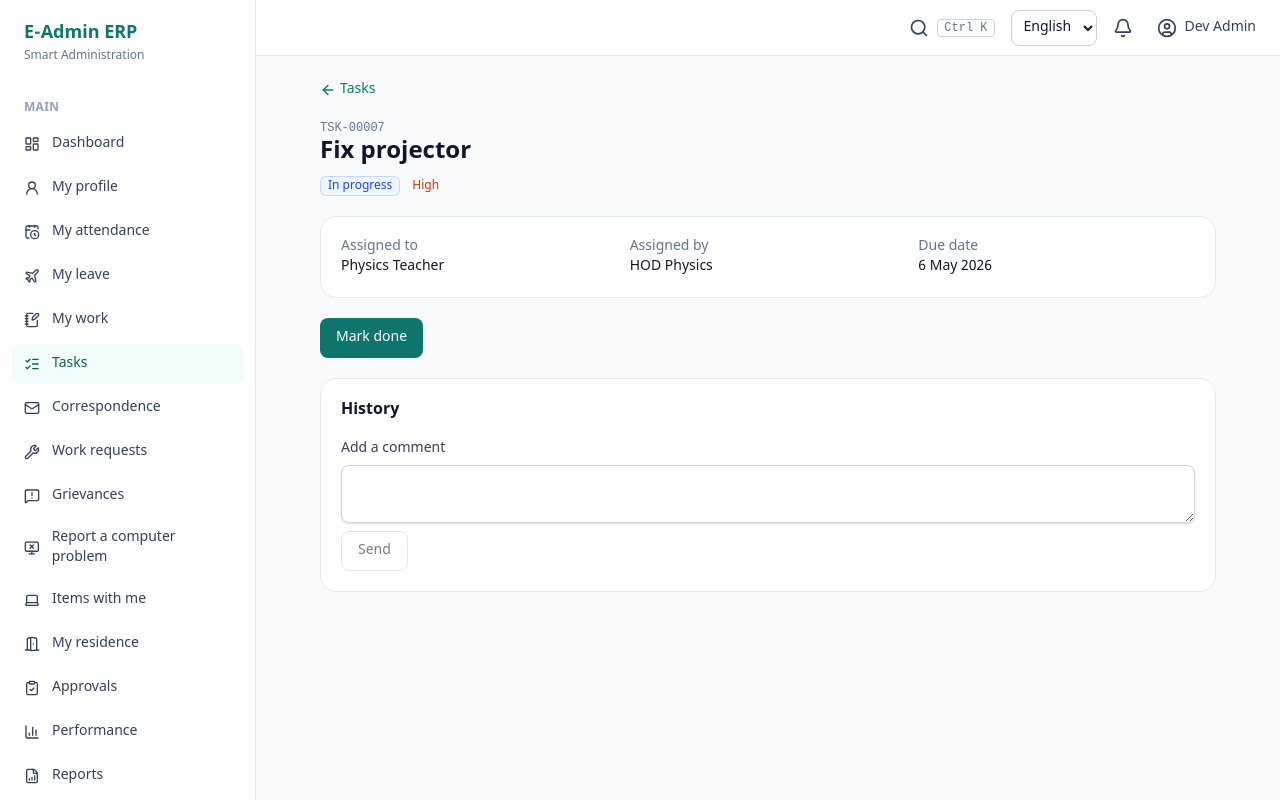
Test case: students and daily work (old-app parity) › records the money spent when the task is handed in
The image size is (1280, 800).
Click the button "Mark done".
click(372, 338)  # box [320,318,423,358]
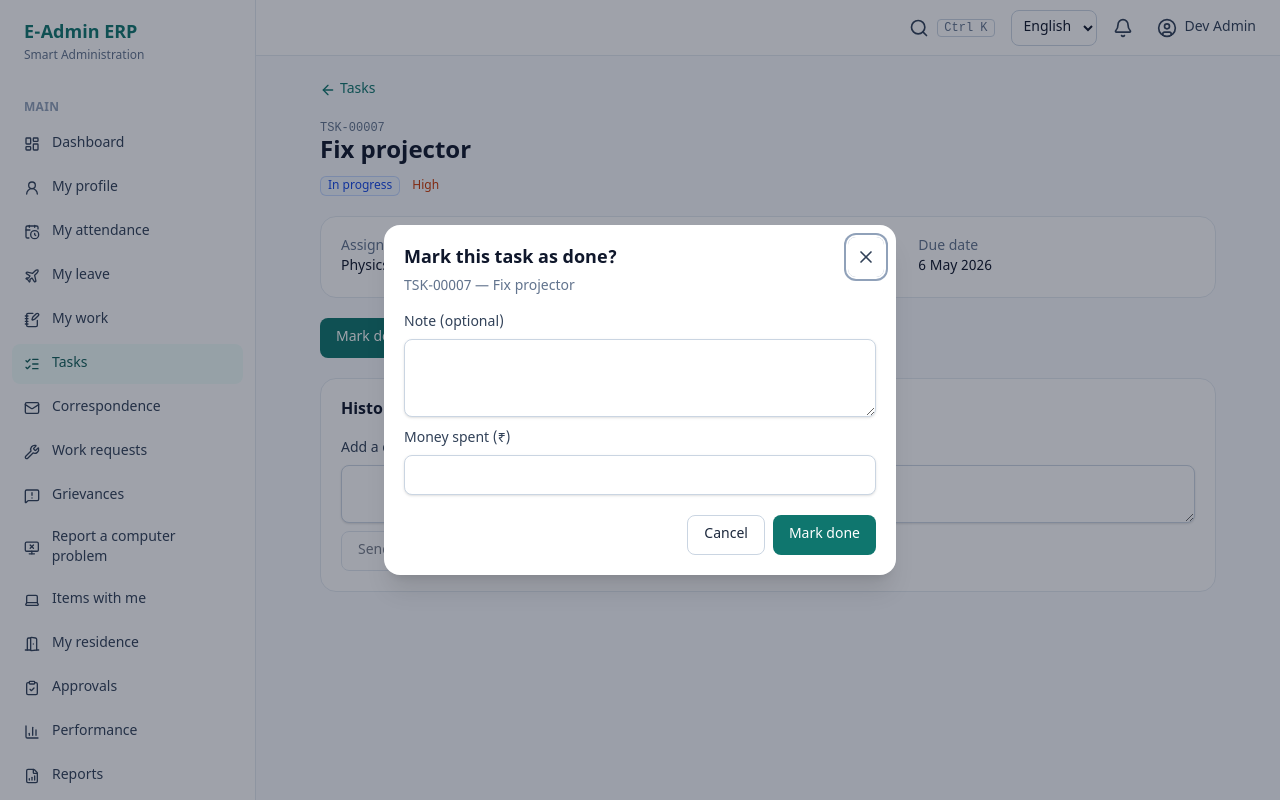
Type "250" into the number field labelled "Money spent (₹)".
click(640, 475); type("250")  # box [404,455,876,495]
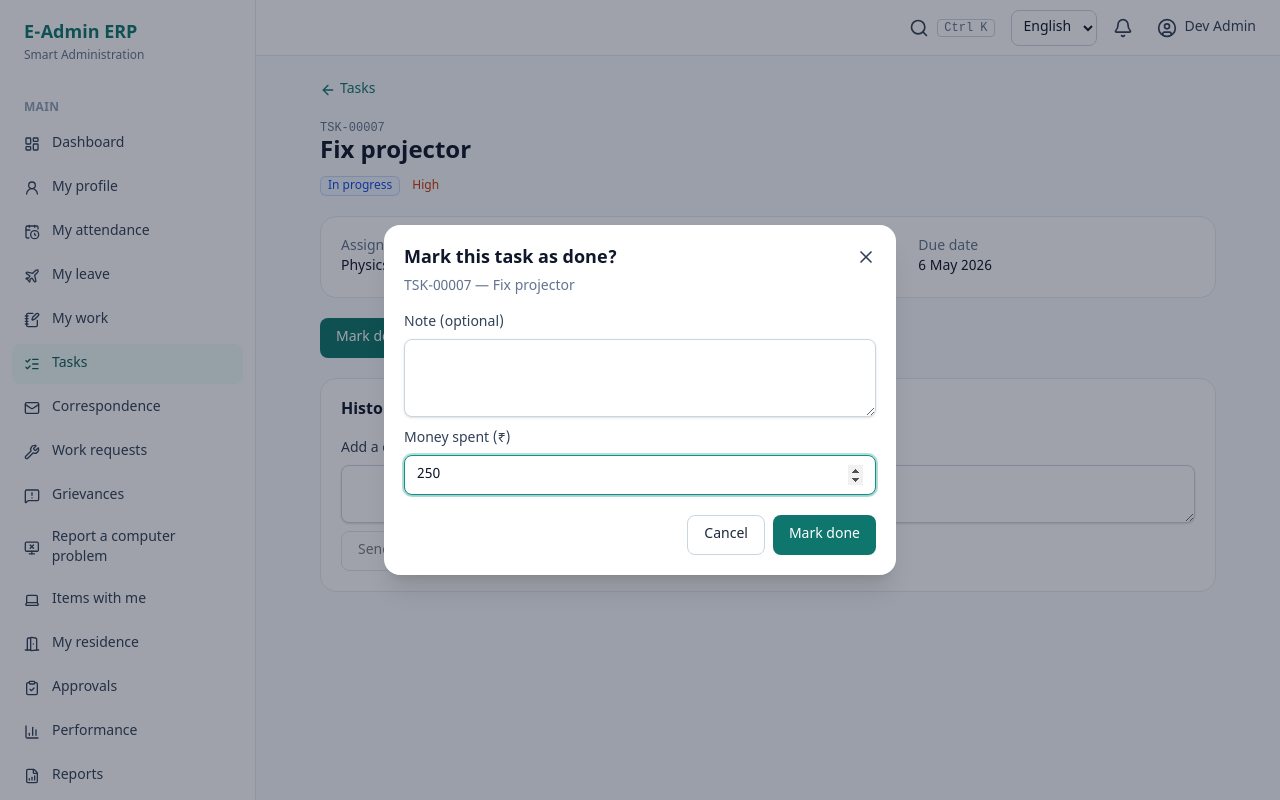
Click the button "Mark done".
click(824, 535)  # box [773,515,876,555]
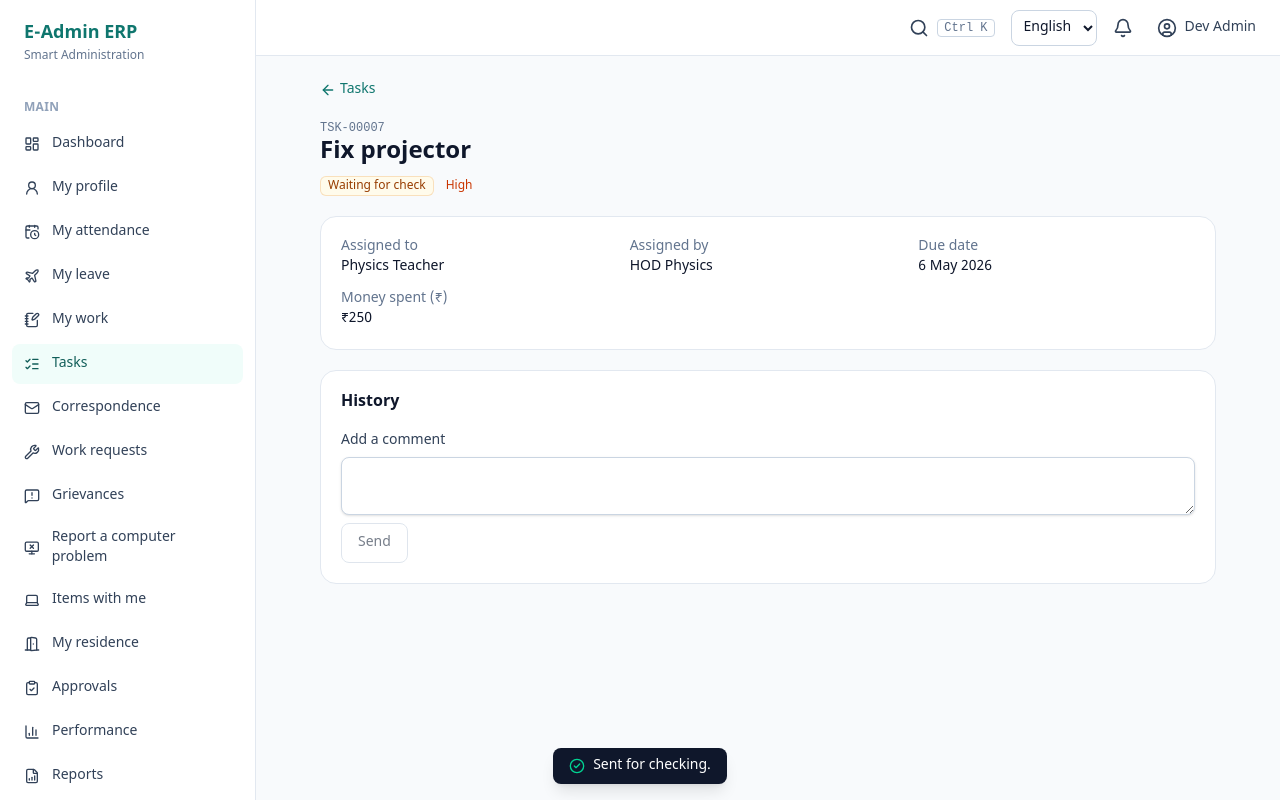
Expected: the text "₹250" is shown, [341,309,372,328]
